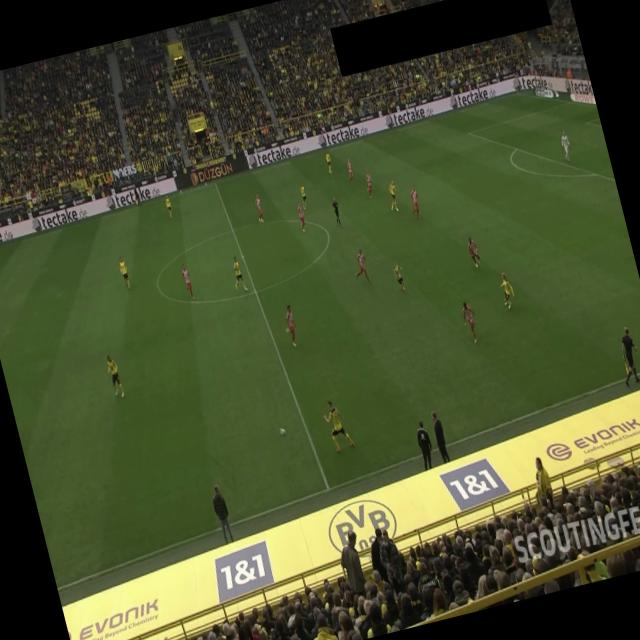ball: (278, 426, 287, 437)
goalkeeper: (558, 128, 574, 162)
player: (320, 396, 356, 454), (104, 352, 125, 398), (460, 300, 480, 344), (349, 248, 372, 286), (228, 254, 248, 294), (282, 304, 301, 346), (496, 270, 516, 309), (384, 178, 402, 212), (179, 262, 195, 300), (406, 183, 422, 220), (465, 235, 482, 269), (116, 255, 132, 290), (391, 260, 407, 292), (252, 192, 266, 222), (362, 169, 376, 199), (295, 201, 308, 232), (298, 181, 310, 210), (344, 158, 355, 183), (323, 150, 334, 174), (163, 194, 174, 218)
referee: (611, 324, 640, 387), (329, 196, 344, 228), (130, 180, 142, 208)
